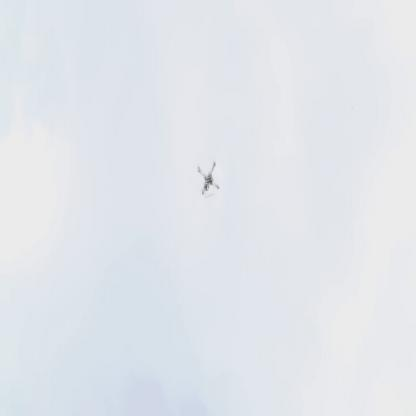drone: (194, 156, 223, 197)
